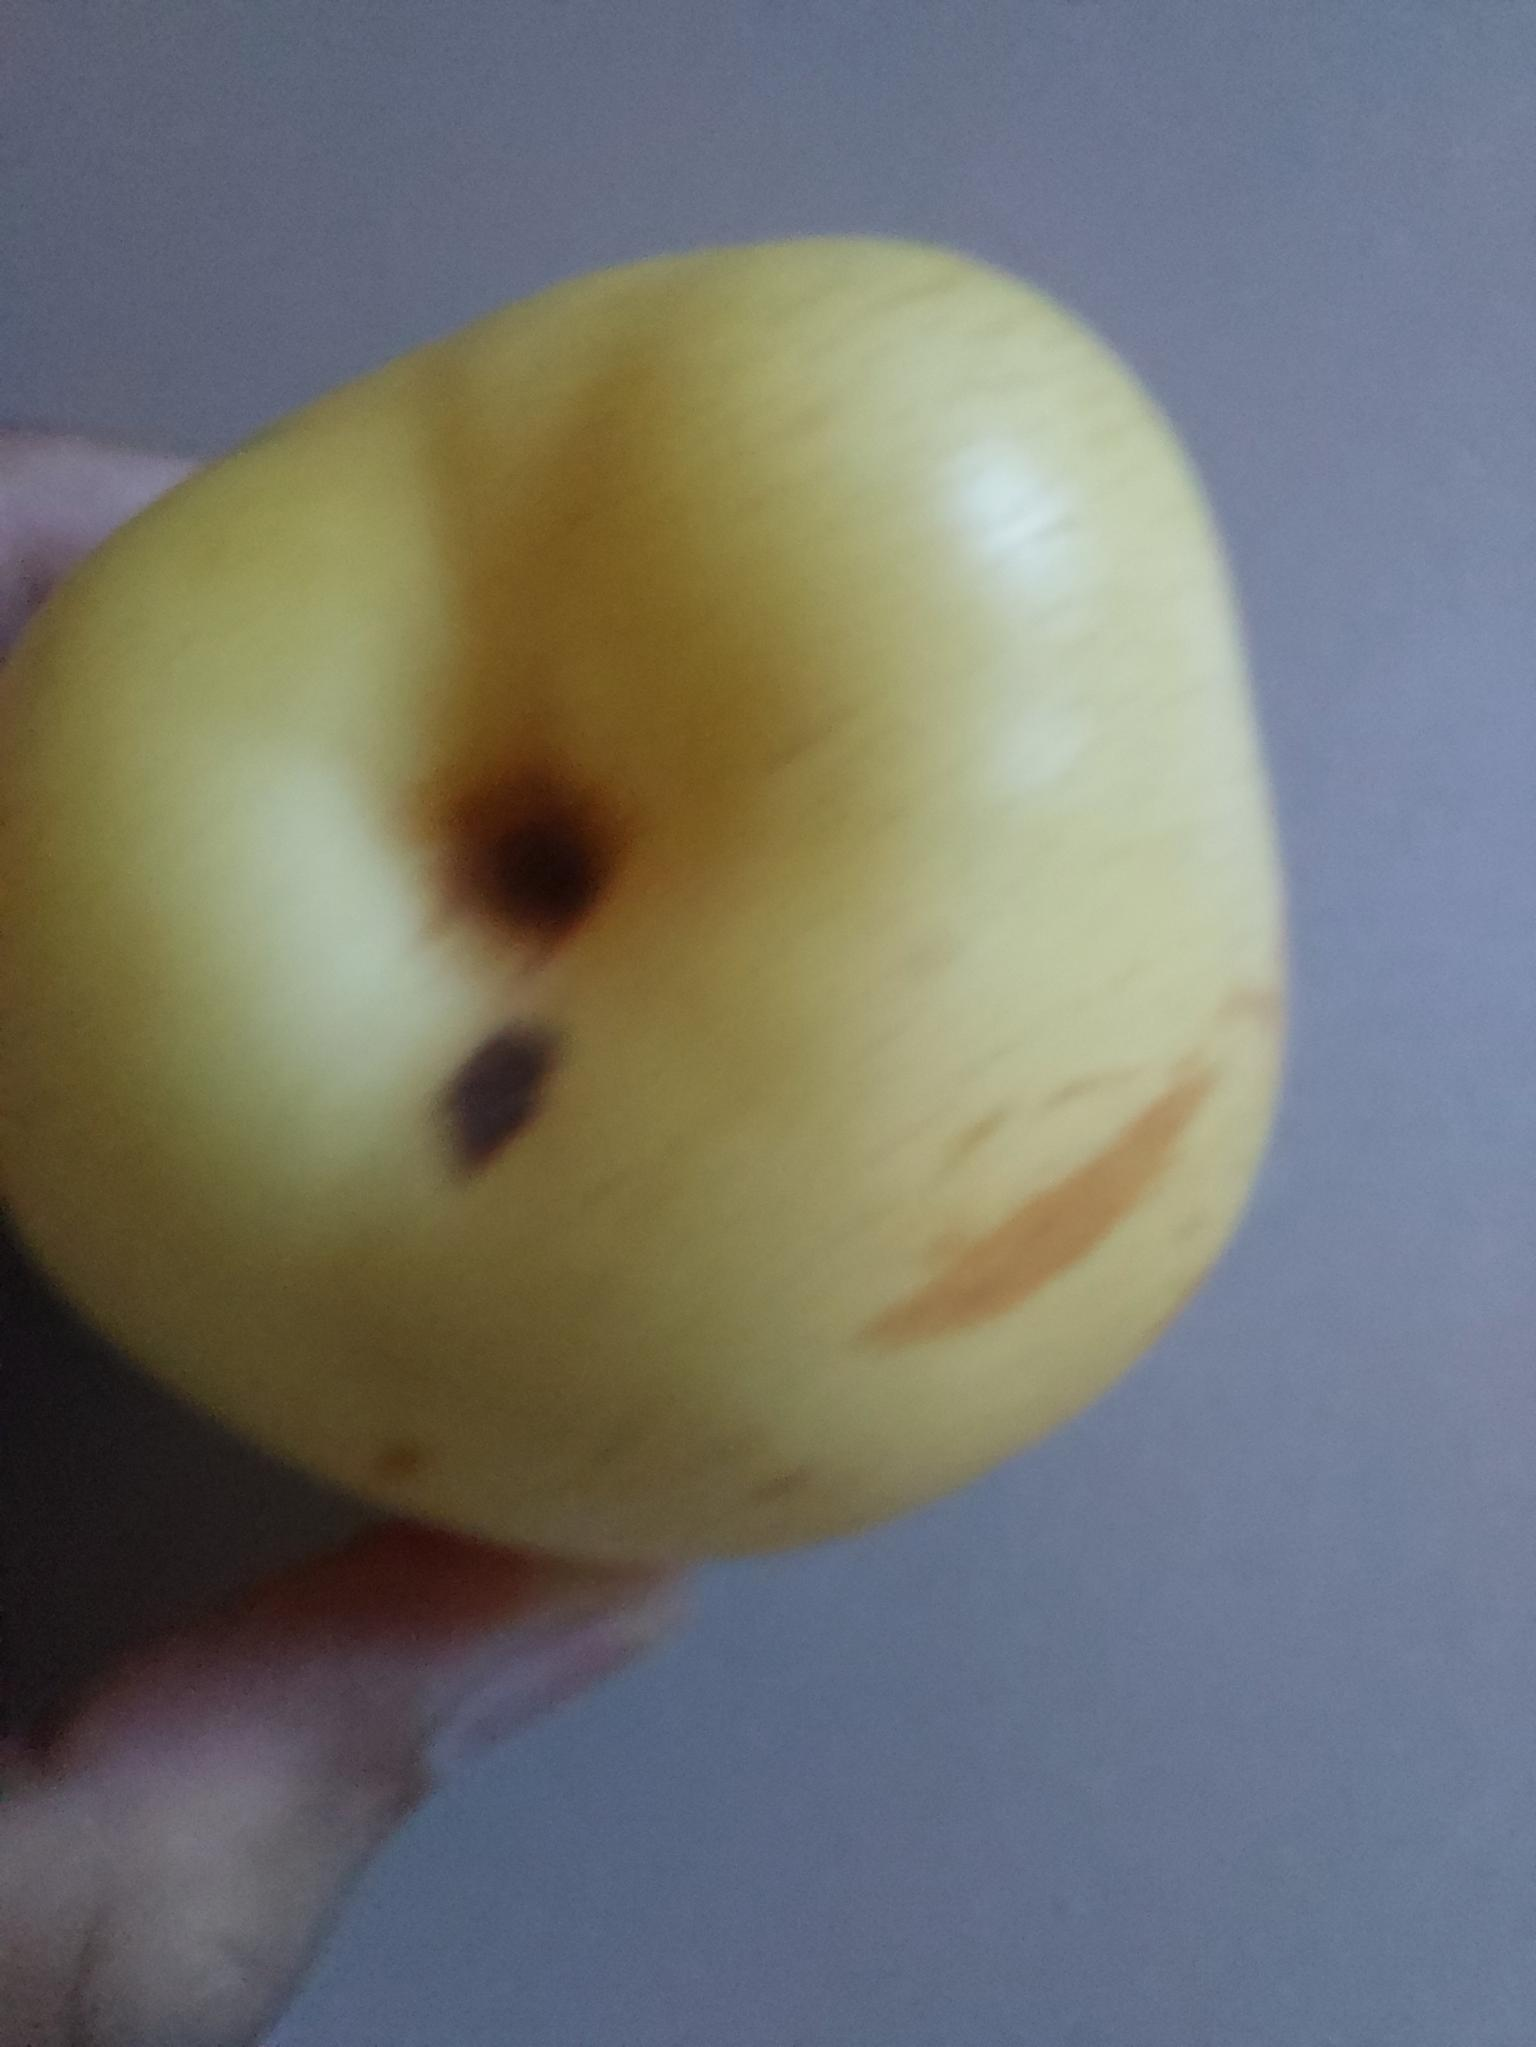Good Pear: (0, 224, 1291, 1579)
